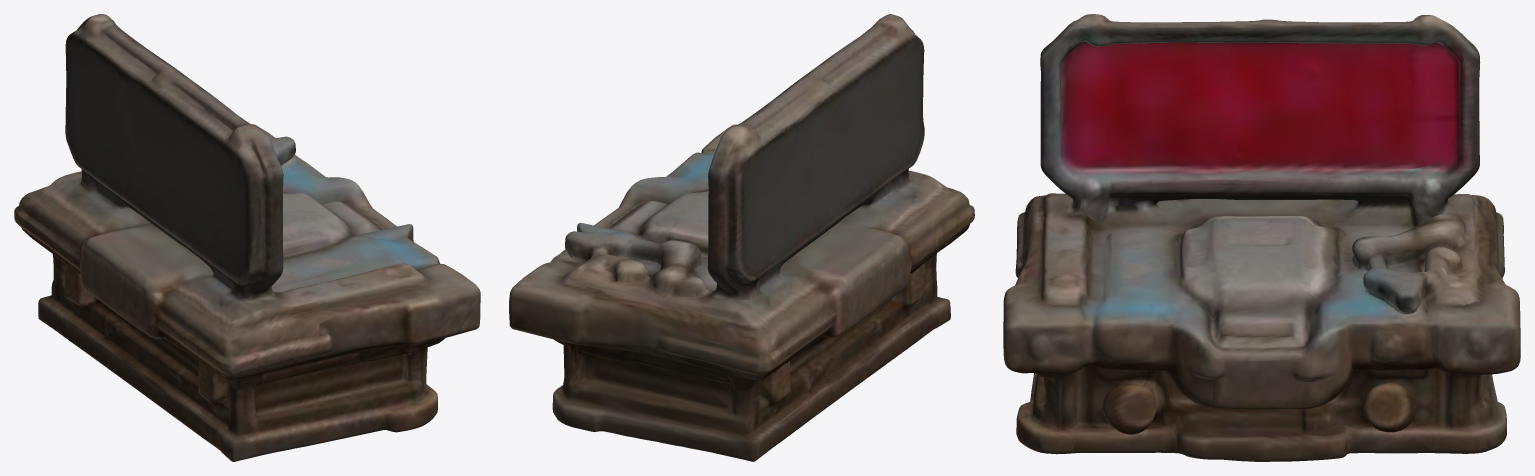
The model's file is import-1780596439119-holograph1.web.webp.glb.
The picture shows the model from 3 angles, left to right: view 1: azimuth 30°, elevation 25°; view 2: azimuth 150°, elevation 25°; view 3: azimuth 270°, elevation 25°; orthographic projection. The views are drawn at different scales.
Size of the model in its own units: 0.1149 by 0.1218 by 0.1642.
Materials: 1 (1 with a texture image).
